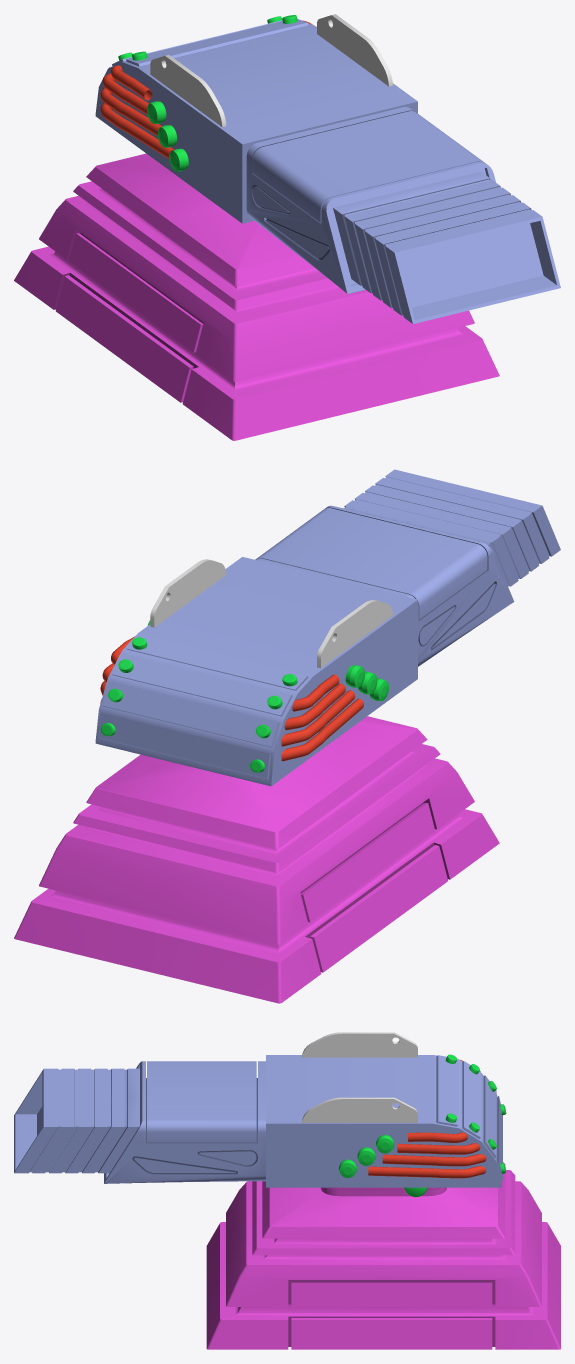
File: SciFiGunson.fbx
3 renders of one model, top to bottom at view 1: azimuth 30°, elevation 25°; view 2: azimuth 150°, elevation 25°; view 3: azimuth 270°, elevation 25°, orthographic. The views are drawn at different scales.
Parts seen in each view (by area): view 1: Cube.002, Cube.008; view 2: Cube.008, Cube.002; view 3: Cube.002, Cube.008.
Boxes of the visible parts, x1,y1,x2,y2 form: Cube.002: (95,14,560,323); Cube.008: (14,153,499,440); Cube.008: (14,716,499,1003); Cube.002: (95,469,560,786); Cube.002: (14,1032,506,1197); Cube.008: (206,1162,560,1349).
Size of the model in its own units: 165 by 170 by 364.
